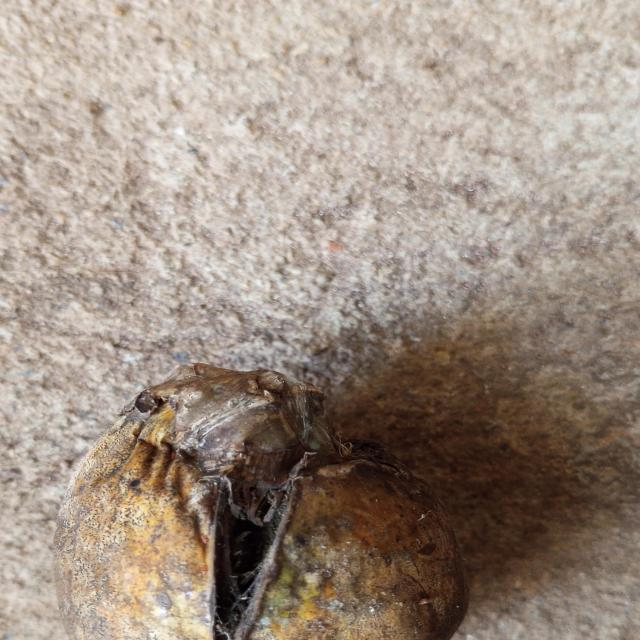damaged: (56, 363, 468, 640)
